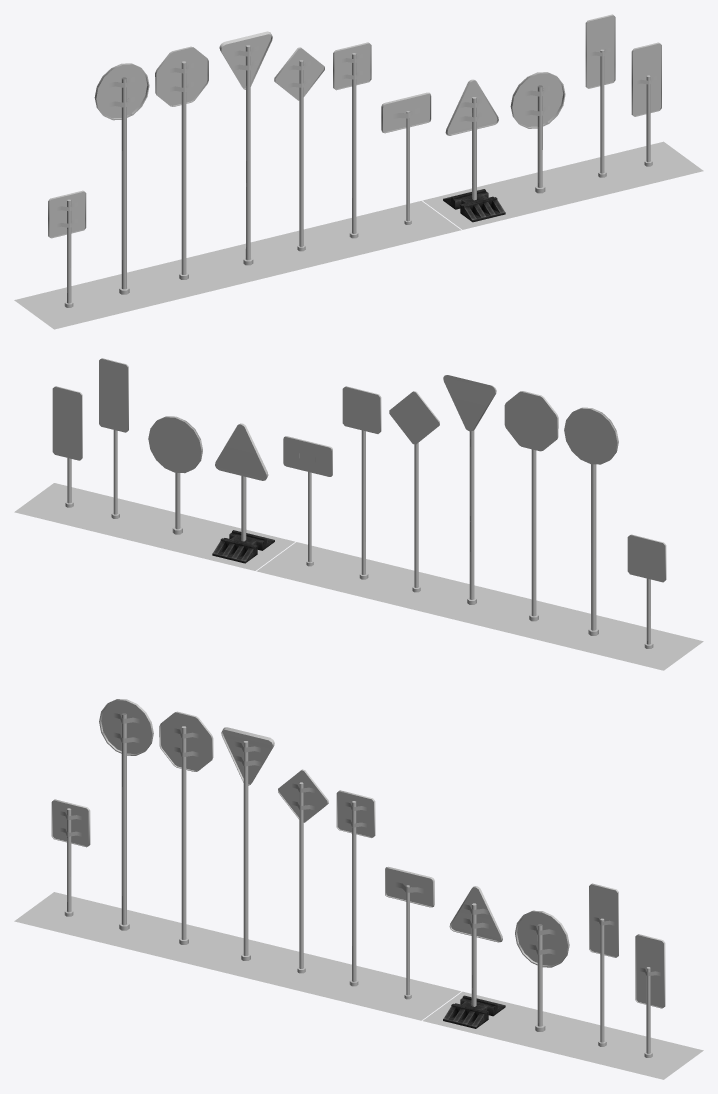
3 views of the same model, one above another, from view 1: azimuth 30°, elevation 25°; view 2: azimuth 150°, elevation 25°; view 3: azimuth 330°, elevation 25° (orthographic).
Parts seen in each view (by area): view 1: Priority_Stop_LOD0, Prohibition_MaximumHeight_LOD0, WarningTemporary_RoadWorks_LOD0, MandatorySmall_BothSides_LOD0, Priority_GiveWay_LOD0, Plane, Plane.002, Warning_DistanceMarker1_LOD0, Plane.004, Plane.006, Plane.010, Plane.001 (+10 smaller); view 2: Priority_Stop_LOD0, Prohibition_MaximumHeight_LOD0, WarningTemporary_RoadWorks_LOD0, MandatorySmall_BothSides_LOD0, Priority_GiveWay_LOD0, Plane.006, Plane.004, Plane.002, Warning_DistanceMarker1_LOD0, Plane.009, Warning_ObstacleMiddle_LOD0, Plane.001 (+10 smaller); view 3: Priority_Stop_LOD0, Prohibition_MaximumHeight_LOD0, WarningTemporary_RoadWorks_LOD0, Priority_GiveWay_LOD0, MandatorySmall_BothSides_LOD0, Plane.010, Plane.002, Warning_DistanceMarker1_LOD0, Plane, Plane.005, Warning_ObstacleMiddle_LOD0, Plane.007 (+10 smaller).
Boxes of the visible parts, x1,y1,x2,y2 form: Priority_Stop_LOD0: [155, 46, 208, 279]; Prohibition_MaximumHeight_LOD0: [94, 63, 149, 294]; WarningTemporary_RoadWorks_LOD0: [443, 79, 505, 222]; MandatorySmall_BothSides_LOD0: [510, 72, 565, 193]; Priority_GiveWay_LOD0: [219, 31, 272, 265]; Plane: [594, 141, 703, 187]; Plane.002: [485, 168, 594, 214]; Warning_DistanceMarker1_LOD0: [585, 14, 615, 177]; Plane.004: [360, 201, 461, 246]; Plane.006: [250, 226, 355, 271]; Plane.010: [14, 287, 123, 329]; Plane.001: [547, 153, 655, 197]; Priority_Stop_LOD0: [504, 391, 558, 621]; Prohibition_MaximumHeight_LOD0: [564, 407, 618, 635]; WarningTemporary_RoadWorks_LOD0: [212, 423, 274, 563]; MandatorySmall_BothSides_LOD0: [148, 416, 202, 534]; Priority_GiveWay_LOD0: [443, 375, 496, 604]; Plane.006: [362, 568, 469, 612]; Plane.004: [256, 542, 361, 588]; Plane.002: [123, 509, 231, 555]; Warning_DistanceMarker1_LOD0: [99, 358, 128, 518]; Plane.009: [540, 611, 646, 653]; Warning_ObstacleMiddle_LOD0: [52, 386, 82, 507]; Plane.001: [62, 494, 162, 538]; Priority_Stop_LOD0: [159, 711, 213, 944]; Prohibition_MaximumHeight_LOD0: [99, 699, 153, 930]; WarningTemporary_RoadWorks_LOD0: [443, 886, 505, 1028]; Priority_GiveWay_LOD0: [221, 727, 274, 960]; MandatorySmall_BothSides_LOD0: [515, 910, 569, 1031]; Plane.010: [14, 892, 121, 937]; Plane.002: [485, 1008, 594, 1053]; Warning_DistanceMarker1_LOD0: [589, 883, 618, 1046]; Plane: [594, 1034, 703, 1079]; Plane.005: [311, 961, 406, 1007]; Warning_ObstacleMiddle_LOD0: [635, 934, 665, 1057]; Plane.007: [200, 936, 299, 981].
Bounding box in the file's own units: 864 × 289 × 92.67.
